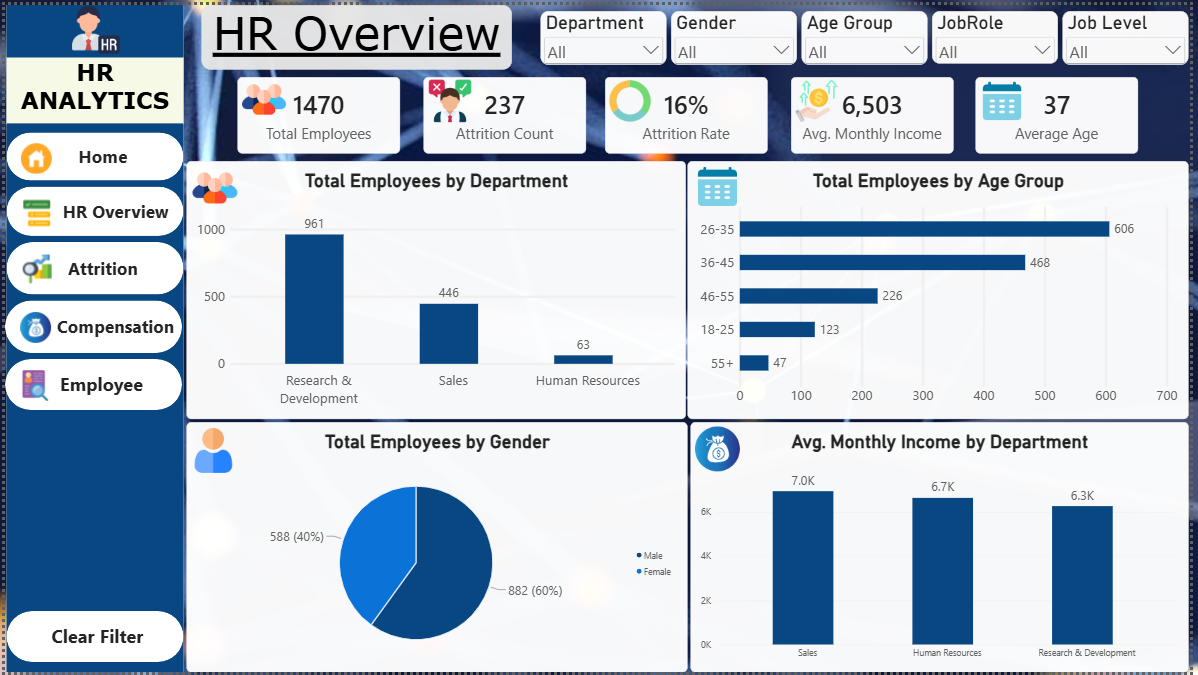

The page's visual inventory and layout, read from the dashboard file:
{"tool":"powerbi","page":{"name":"HR Overview","canvas":[1920,1080],"ordinal":1},"visuals":[{"type":"slicer","fields":{"Values":["Dim_Department.Department"]},"box":[867.1,9.7,204,87.4],"z":0,"group":"g3"},{"type":"shape","box":[2,87.4,286.6,106.9],"z":0,"group":"g4"},{"type":"card","fields":{"Values":["Measure.Total Employees"]},"box":[376.4,116.8,263.5,124.1],"z":0,"group":"g2"},{"type":"barChart","title":"Total Employees by Age Group","fields":{"Category":["Dim_Employee.AgeGroup"],"Y":["Measure.Total Employees"]},"box":[1105.1,252.6,811.2,417.8],"z":0},{"type":"shape","box":[2,0,286.6,1080.8],"z":1000,"group":"g4"},{"type":"slicer","fields":{"Values":["Dim_Employee.Gender"]},"box":[1078.4,9.7,204,87.4],"z":1000,"group":"g3"},{"type":"columnChart","fields":{"Category":["Dim_Department.Department"],"Y":["Measure.Total Employees"]},"box":[293.9,252.6,808.8,417.8],"z":1000},{"type":"slicer","fields":{"Values":["Dim_Job.JobRole"]},"box":[1501,9.7,204,85],"z":2000,"group":"g3"},{"type":"actionButton","title":"Home","box":[2,206.5,286.6,77.7],"z":2000,"group":"g4"},{"type":"pieChart","fields":{"Category":["Dim_Employee.Gender"],"Y":["Measure.Total Employees"]},"box":[293.9,675.2,811.2,405.6],"z":2000},{"type":"textbox","box":[318.2,0,502.8,104.4],"z":3000},{"type":"slicer","fields":{"Values":["Dim_Employee.AgeGroup"]},"box":[1289.7,9.7,204,87.4],"z":3000,"group":"g3"},{"type":"textbox","box":[2,85,286.6,106.9],"z":3000,"group":"g4"},{"type":"slicer","fields":{"Values":["Dim_Job.JobLevel"]},"box":[1712.3,9.7,204,87.4],"z":4000,"group":"g3"},{"type":"card","fields":{"Values":["Measure.Attrition Count"]},"box":[677.2,116.8,263.5,124.1],"z":4000,"group":"g2"},{"type":"actionButton","title":"Home","box":[2,293.9,286.6,80.2],"z":4000,"group":"g4"},{"type":"columnChart","fields":{"Category":["Dim_Department.Department"],"Y":["Measure.Avg. Monthly Income"]},"box":[1110,675.2,806.4,405.6],"z":4000},{"type":"group","id":"g1","title":"Group 8","box":[0,0,289,1080.8],"z":5000},{"type":"card","fields":{"Values":["Measure.Attrition Rate"]},"box":[971,116.8,263.5,124.1],"z":5000,"group":"g2"},{"type":"actionButton","title":"Home","box":[2,383.8,286.6,85],"z":5000,"group":"g4"},{"type":"card","fields":{"Values":["Measure.Avg. Monthly Income"]},"box":[1271.7,116.8,263.5,124.1],"z":6000,"group":"g2"},{"type":"image","box":[301.2,684.9,72.9,72.9],"z":6000},{"type":"card","fields":{"Values":["Measure.Average Age"]},"box":[1572.5,116.8,263.5,124.1],"z":7000,"group":"g2"},{"type":"actionButton","title":"Home","box":[0.9,478.5,286.6,85],"z":7000,"group":"g4"},{"type":"image","box":[1117.3,682.5,72.9,72.9],"z":7000},{"type":"image","box":[303.6,259.9,72.9,72.9],"z":8000},{"type":"image","box":[1117.3,257.5,72.9,72.9],"z":9000},{"type":"actionButton","title":"Home","box":[2,981.3,286.6,82.6],"z":9000,"group":"g4"},{"type":"group","id":"g2","title":"Group 2","box":[376.4,116.4,1459.7,123.9],"z":10000},{"type":"actionButton","title":"Home","box":[0,573.2,286.6,82.6],"z":10000,"group":"g4"},{"type":"group","id":"g3","title":"Group 3","box":[867.1,9.7,1049.3,87.4],"z":11000},{"type":"group","id":"g4","title":"Group 1","box":[0,0,288.6,1080.8],"z":11001,"group":"g1"},{"type":"image","box":[89.4,0,114.2,80.2],"z":11501,"group":"g1"},{"type":"image","box":[1579.8,118.8,71.2,72.9],"z":15000,"group":"g2"},{"type":"image","box":[1278.3,118.8,71.2,72.9],"z":16000,"group":"g2"},{"type":"image","box":[976.9,118.8,71.2,72.9],"z":17000,"group":"g2"},{"type":"image","box":[684.9,118.8,71.2,72.9],"z":18000,"group":"g2"},{"type":"image","box":[383.5,116.4,71.2,72.9],"z":23000,"group":"g2"}]}

Visuals, with their boxes in screenshot pixels (x1, y1, x2, y2), scaled from the page's 1920x1080 canvas onto the 1198x675 screenshot:
slicer - Dim_Department.Department: region(541, 6, 668, 61)
shape: region(1, 55, 180, 121)
card - Measure.Total Employees: region(235, 73, 399, 151)
"Total Employees by Age Group" barChart: region(690, 158, 1196, 419)
shape: region(1, 0, 180, 674)
slicer - Dim_Employee.Gender: region(673, 6, 800, 61)
columnChart - Dim_Department.Department x Measure.Total Employees: region(183, 158, 688, 419)
slicer - Dim_Job.JobRole: region(937, 6, 1064, 59)
"Home" actionButton: region(1, 129, 180, 178)
pieChart - Dim_Employee.Gender x Measure.Total Employees: region(183, 422, 690, 674)
textbox: region(199, 0, 512, 65)
slicer - Dim_Employee.AgeGroup: region(805, 6, 932, 61)
textbox: region(1, 53, 180, 120)
slicer - Dim_Job.JobLevel: region(1068, 6, 1196, 61)
card - Measure.Attrition Count: region(423, 73, 587, 151)
"Home" actionButton: region(1, 184, 180, 234)
columnChart - Dim_Department.Department x Measure.Avg. Monthly Income: region(693, 422, 1196, 674)
"Group 8" group: region(0, 0, 180, 674)
card - Measure.Attrition Rate: region(606, 73, 770, 151)
"Home" actionButton: region(1, 240, 180, 293)
card - Measure.Avg. Monthly Income: region(793, 73, 958, 151)
image: region(188, 428, 233, 474)
card - Measure.Average Age: region(981, 73, 1146, 151)
"Home" actionButton: region(1, 299, 179, 352)
image: region(697, 427, 743, 472)
image: region(189, 162, 235, 208)
image: region(697, 161, 743, 206)
"Home" actionButton: region(1, 613, 180, 665)
"Group 2" group: region(235, 73, 1146, 150)
"Home" actionButton: region(0, 358, 179, 410)
"Group 3" group: region(541, 6, 1196, 61)
"Group 1" group: region(0, 0, 180, 674)
image: region(56, 0, 127, 50)
image: region(986, 74, 1030, 120)
image: region(798, 74, 842, 120)
image: region(610, 74, 654, 120)
image: region(427, 74, 472, 120)
image: region(239, 73, 284, 118)
